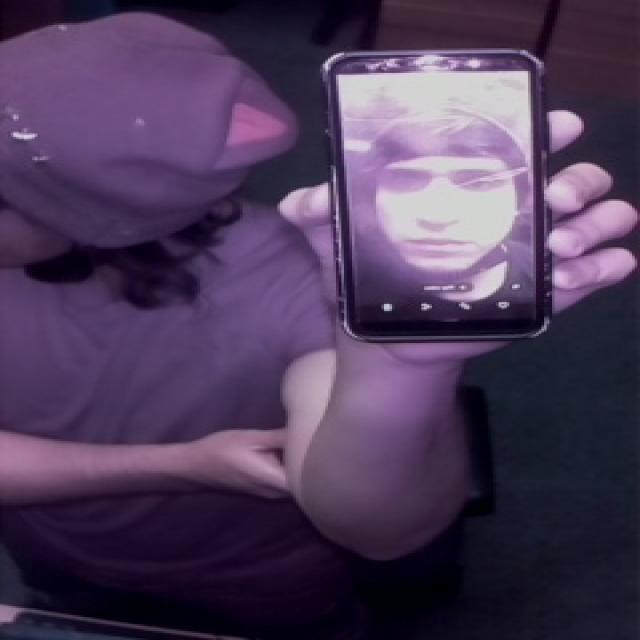phone: (320, 41, 560, 345)
